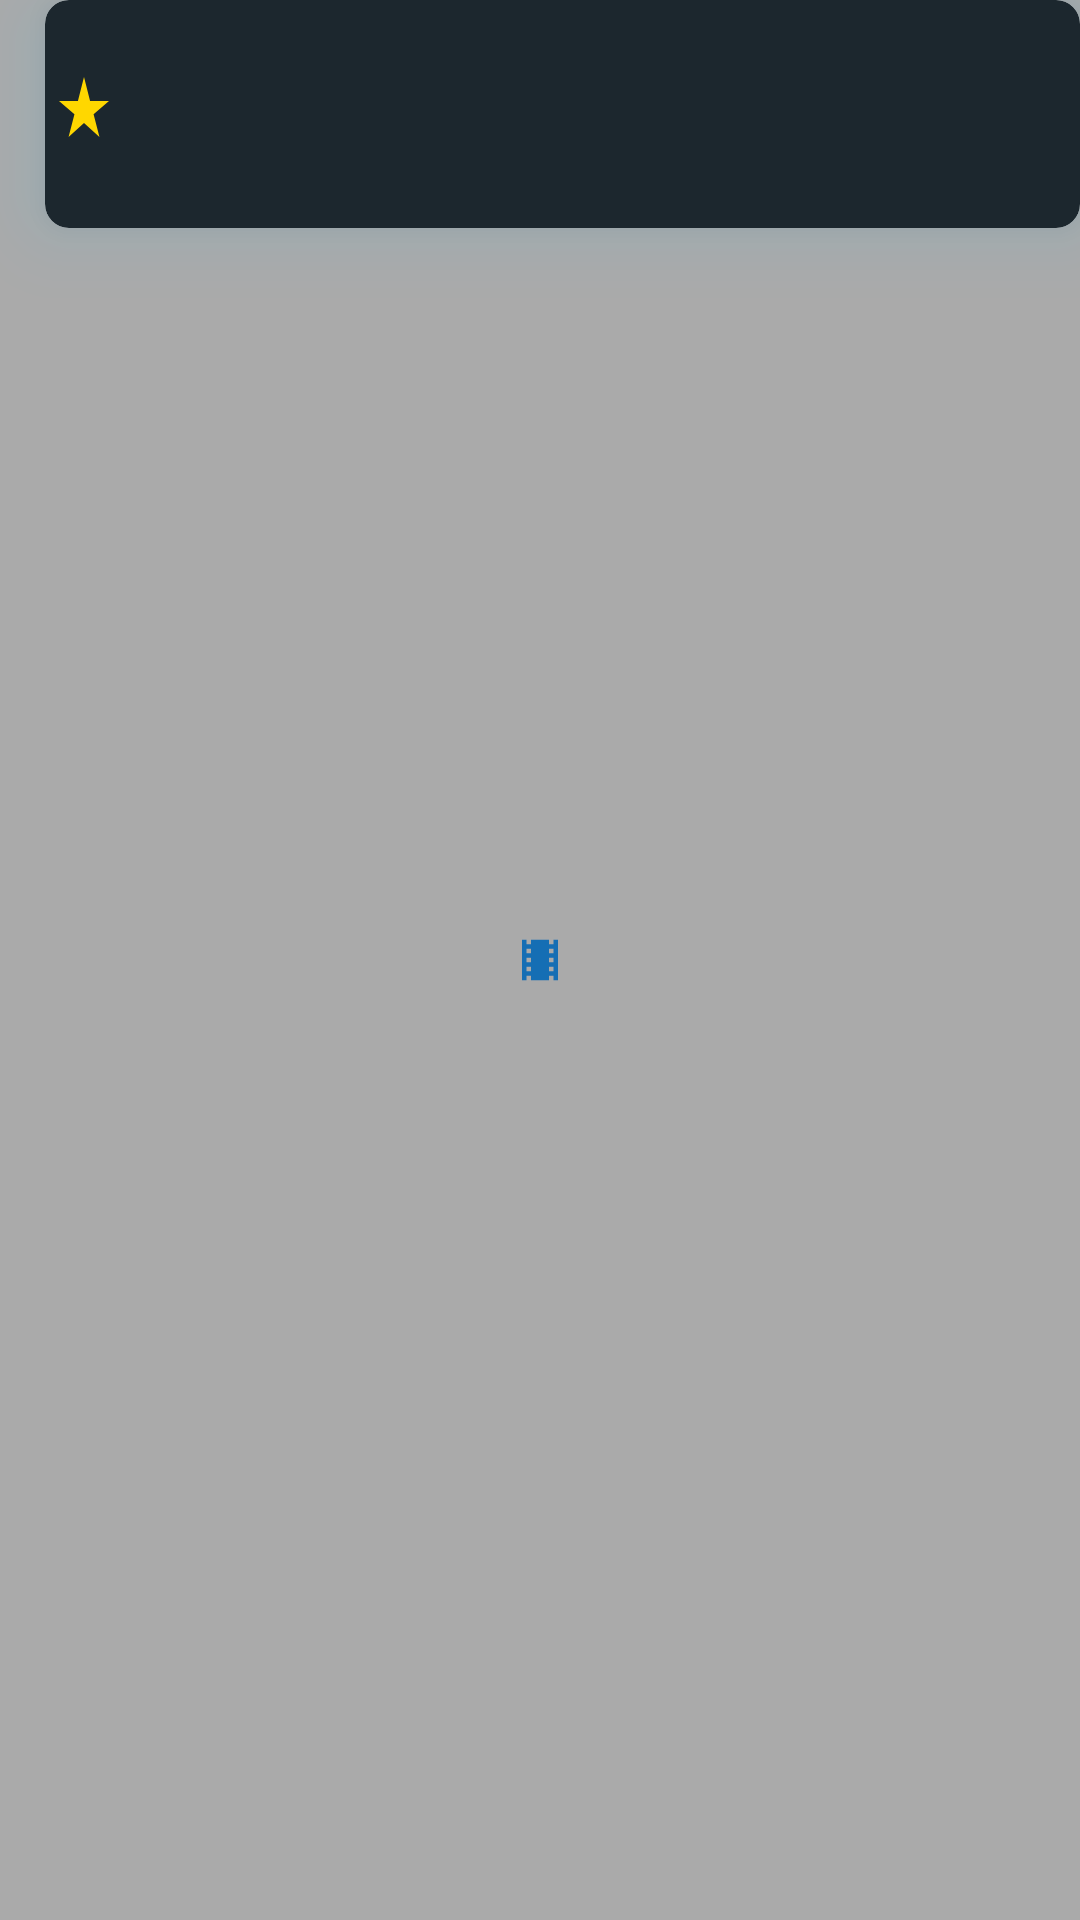

Where icons sit on this 1080w x 1920h app screen, as (x1, y1, x2, y2):
star: (59, 77, 109, 137)
